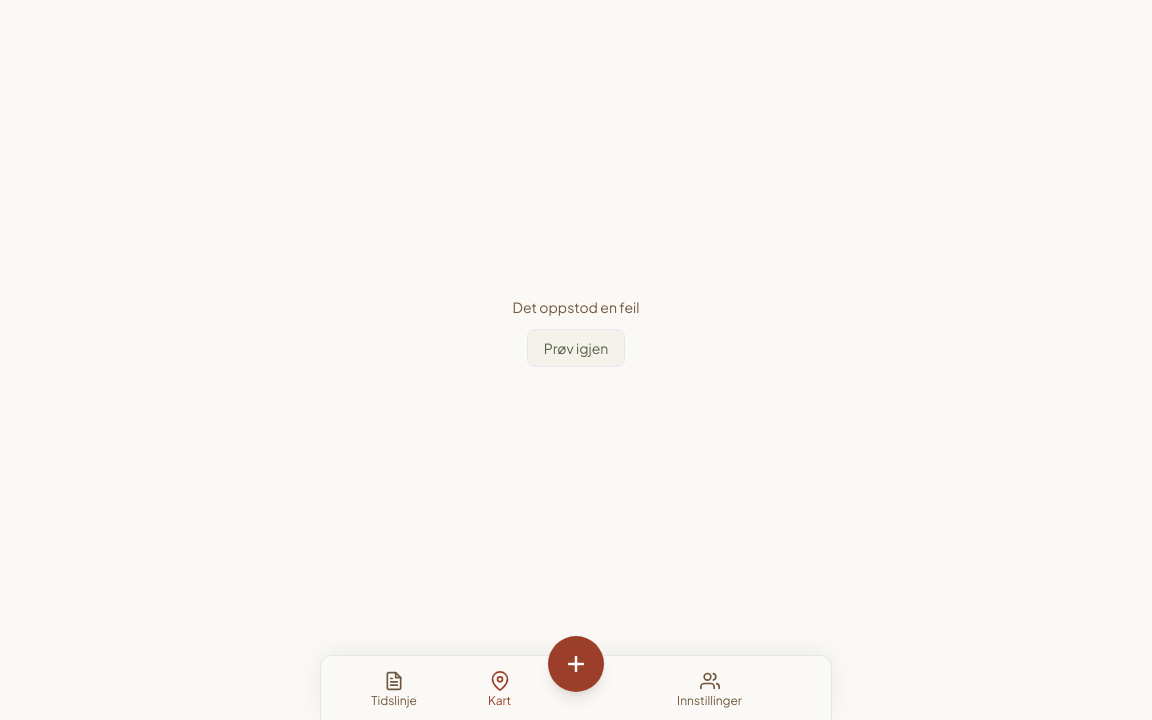
Test: MapScreen › refetches pins when retry is clicked after an error
Expected: the text "Det oppstod en feil" is shown, [512,297,640,317]
Click the button "Prøv igjen".
click(576, 348)  # box [527,329,625,367]
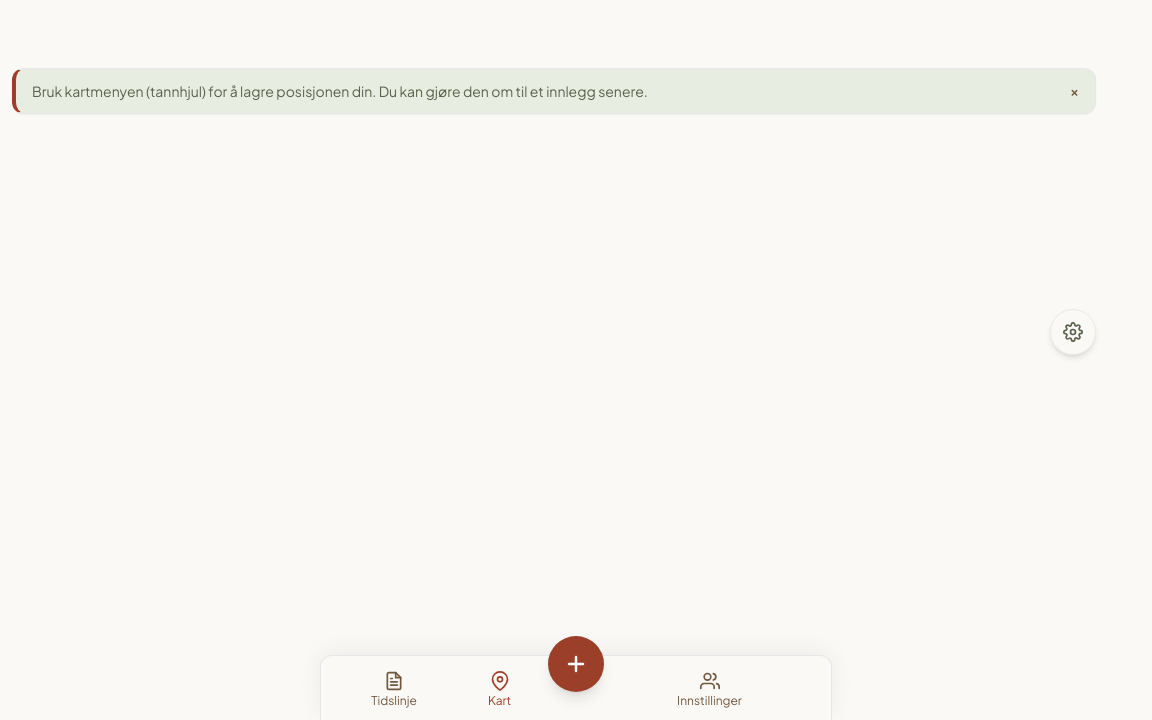
Now the text "Det oppstod en feil" is gone
